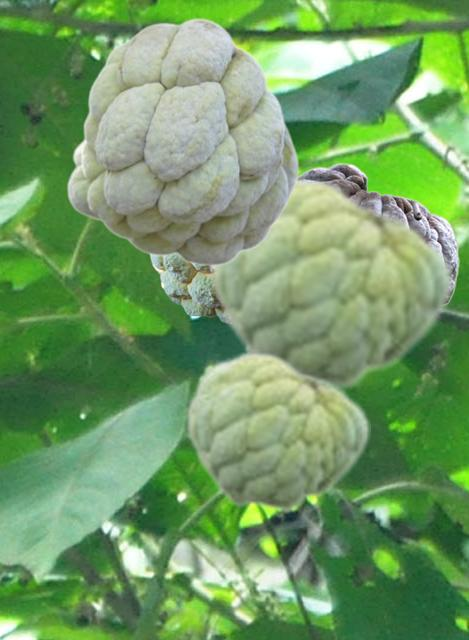atis: (66, 17, 298, 265), (207, 174, 453, 391), (184, 349, 369, 513), (301, 162, 458, 296), (149, 255, 223, 322)
